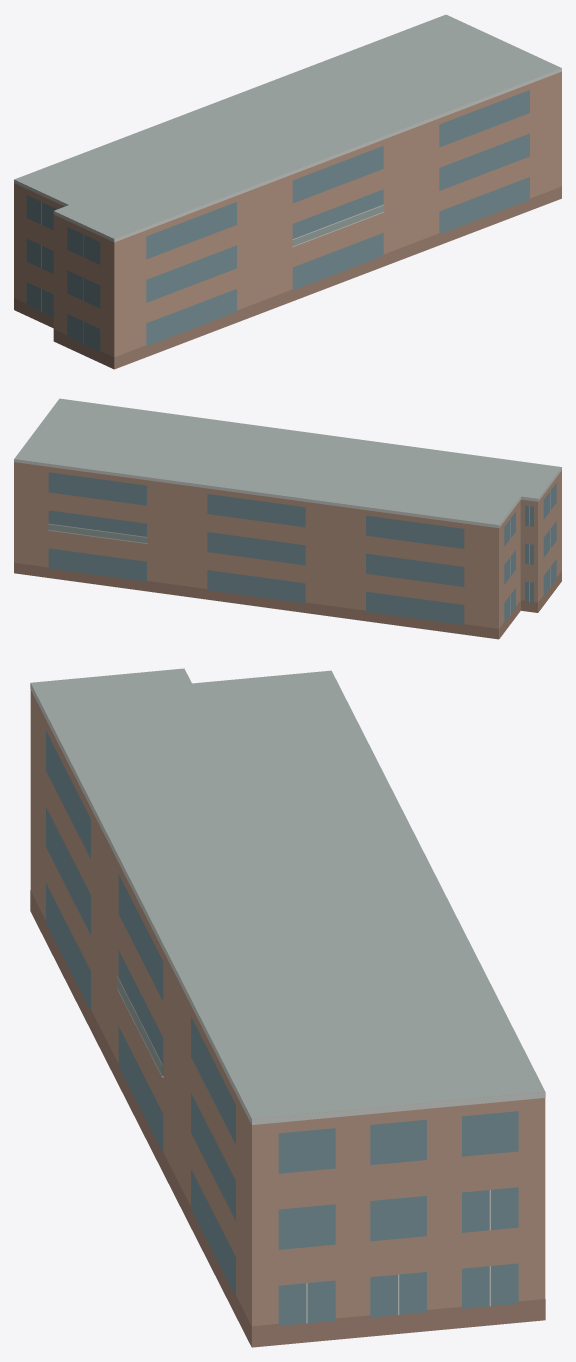
File: survey-upis-32709155.glb
3 views of the same model, one above another, from view 1: azimuth 30°, elevation 25°; view 2: azimuth 150°, elevation 25°; view 3: azimuth 270°, elevation 25° (orthographic). The views are drawn at different scales.
Parts seen in each view (by area): view 1: survey-upis-32709155.tmp; view 2: survey-upis-32709155.tmp; view 3: survey-upis-32709155.tmp.
Boxes of the visible parts, x1,y1,x2,y2 form: survey-upis-32709155.tmp: [14, 14, 561, 369]; survey-upis-32709155.tmp: [14, 398, 561, 639]; survey-upis-32709155.tmp: [30, 668, 545, 1347].
Size of the model in its own units: 38.72 by 9.15 by 18.71.
